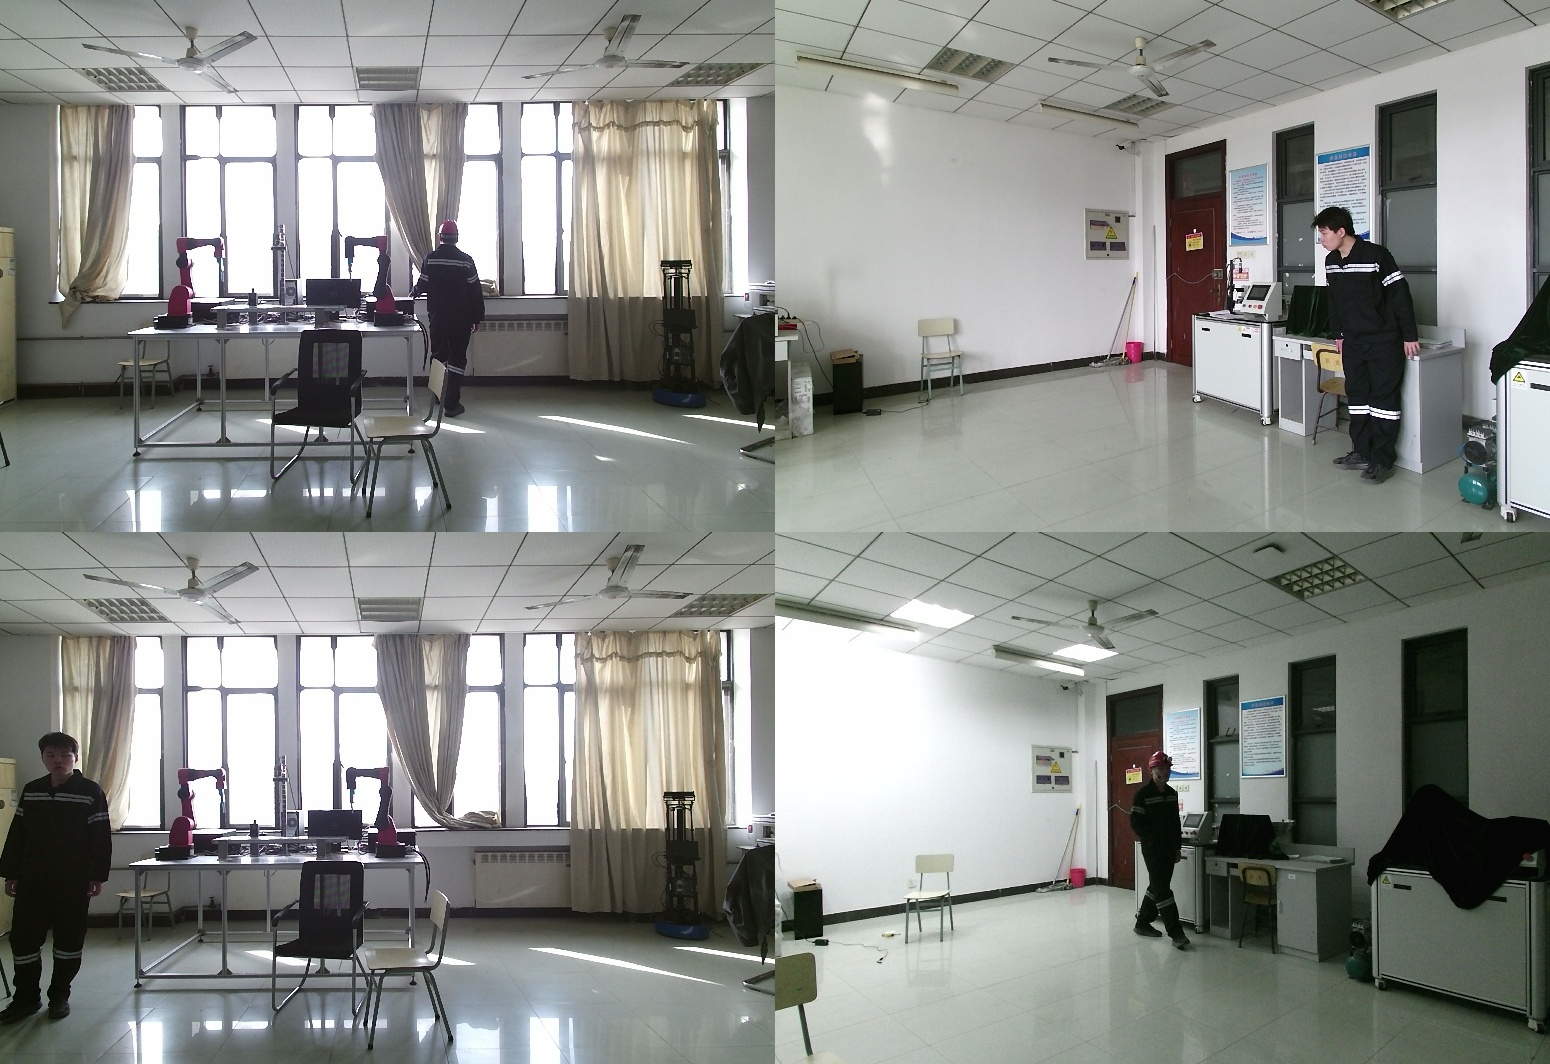person: (3, 732, 118, 1019), (1314, 207, 1426, 481), (410, 222, 487, 423), (1121, 751, 1189, 948)
